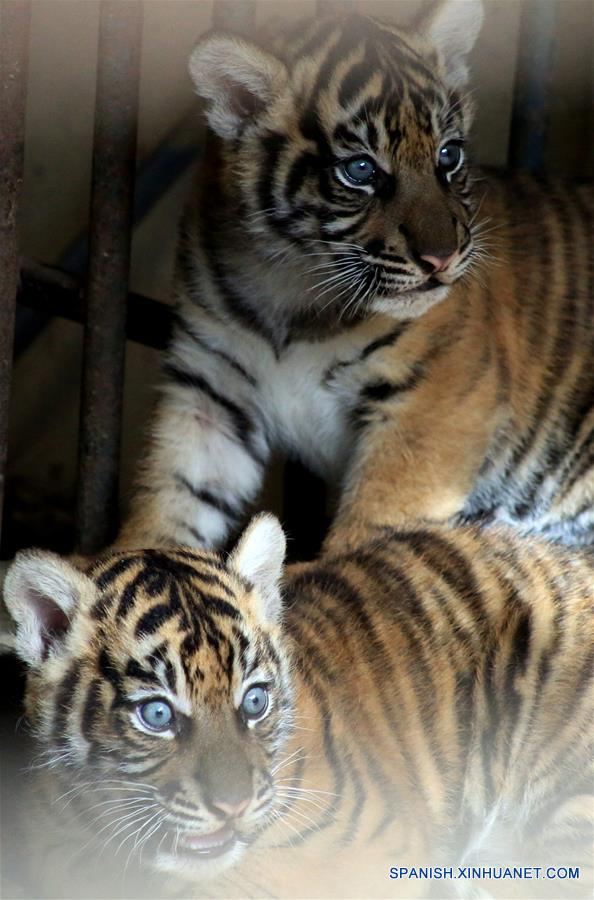Tigrew: (11, 512, 556, 870), (173, 14, 561, 501)
